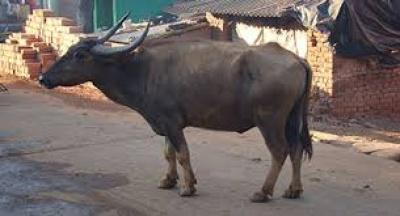buffalo: (38, 21, 314, 203)
